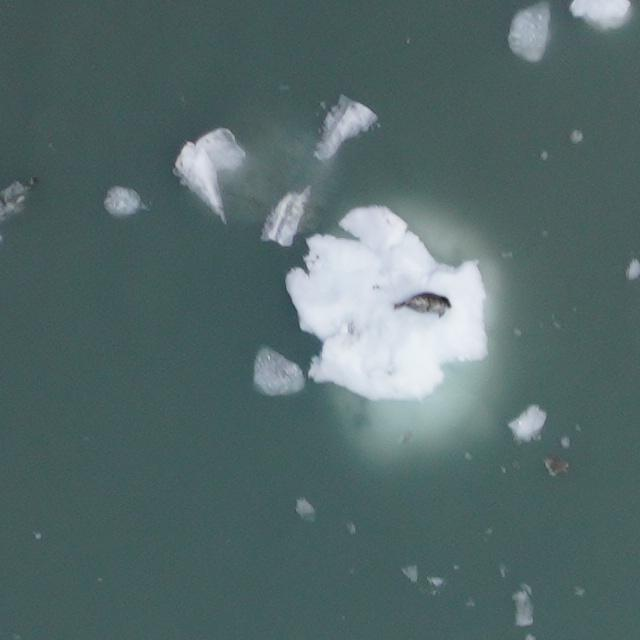seal: (394, 287, 456, 319)
